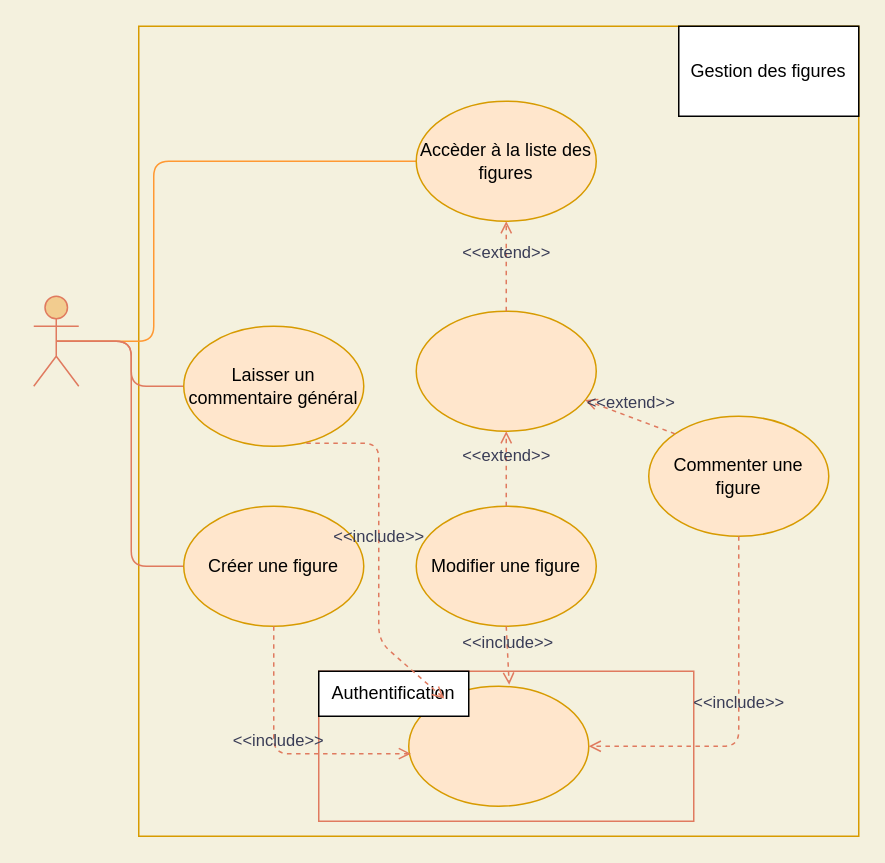
The diagram is 885 pixels wide and 863 high, and some of its shapes have lost their labels. The shapes that lost their labels are listed below. From the top down, each one's centre as x and y in pixels, then its label:
pixel 55 340: Visiteur
pixel 505 370: Visualiser une figure
pixel 498 745: S'authentifier
